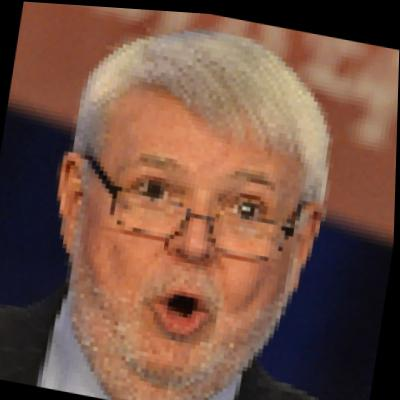surprise: (51, 58, 322, 398)
